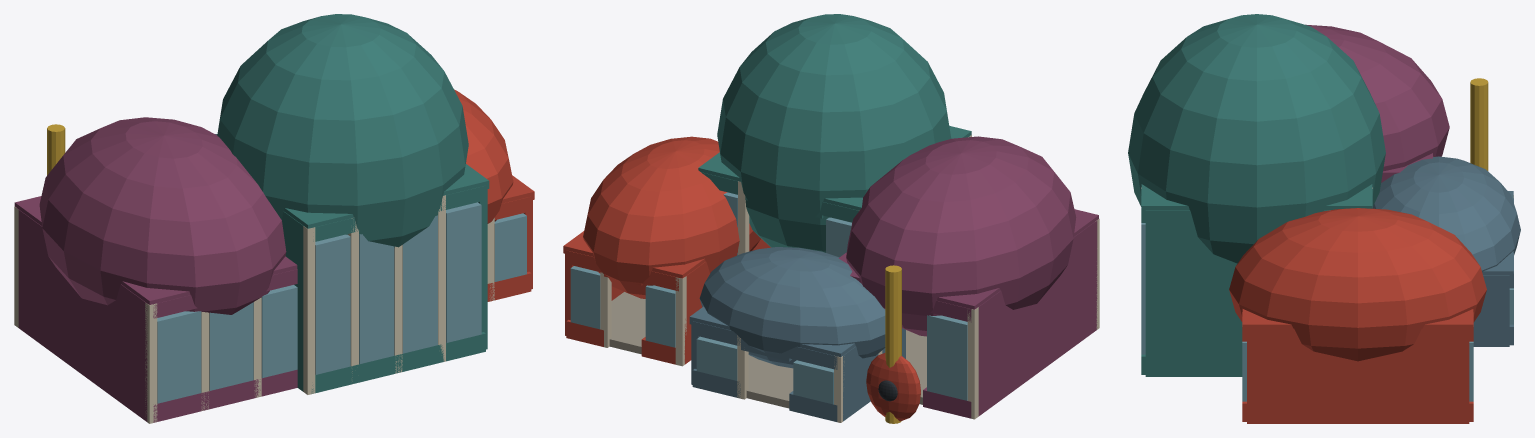
File: museum-of-loud.glb
3 views of the same model, side by side, from view 1: azimuth 30°, elevation 25°; view 2: azimuth 150°, elevation 25°; view 3: azimuth 270°, elevation 25° (orthographic). The views are drawn at different scales.
Parts seen in each view (by area): view 1: museum-of-loud; view 2: museum-of-loud; view 3: museum-of-loud.
Part boxes in pixels (bbox=[...]): museum-of-loud: bbox=[14, 14, 534, 423]; museum-of-loud: bbox=[563, 14, 1099, 423]; museum-of-loud: bbox=[1128, 14, 1520, 423].
Size of the model in its own units: 26.24 by 16.8 by 19.44.
